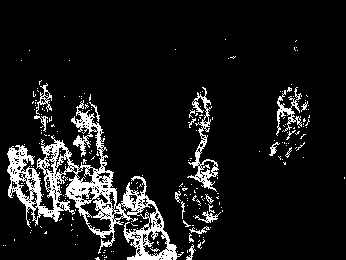person: (173, 157, 223, 260), (65, 164, 117, 260), (113, 174, 168, 255), (4, 143, 46, 226), (69, 91, 109, 168), (39, 134, 74, 216), (187, 86, 213, 169), (283, 86, 310, 165), (30, 78, 58, 138), (270, 82, 291, 158)
